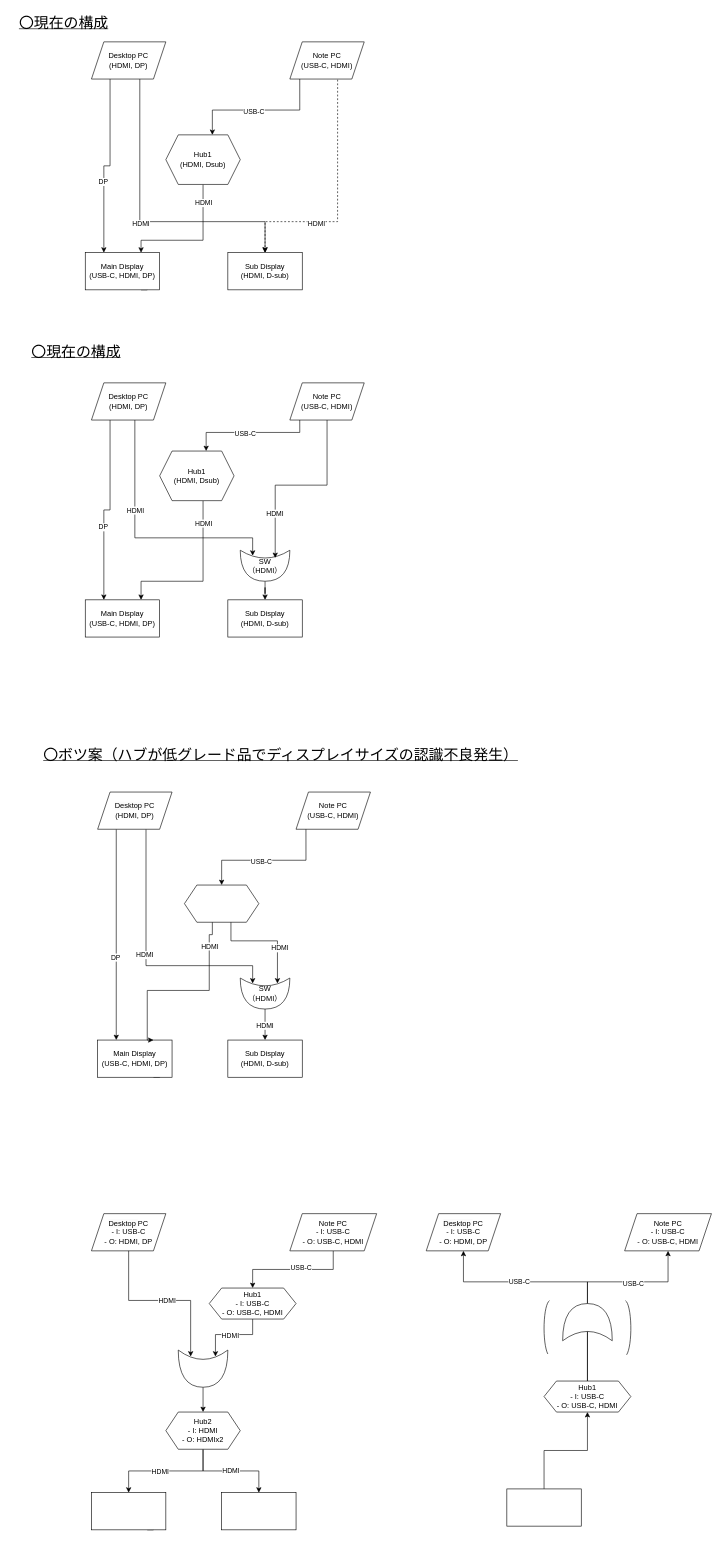
The diagram is 722 pixels wide and 1546 high, and some of its shapes have lost their labels. The box of each missing label's shape, as (x1, y1, x2, y2) in pixels:
Hub2 (HDMI x 2): (184, 884, 259, 922)
INPUT SW I/O: HDMI: (178, 1349, 228, 1387)
Main Display - I: USB-C, HDMI, DP: (91, 1492, 166, 1530)
Mouse, Keyboard: (506, 1488, 581, 1526)
OUT SW I/O: USB-C: (562, 1303, 612, 1341)
Sub Display - I: HDMI, D-sub: (221, 1492, 296, 1530)
